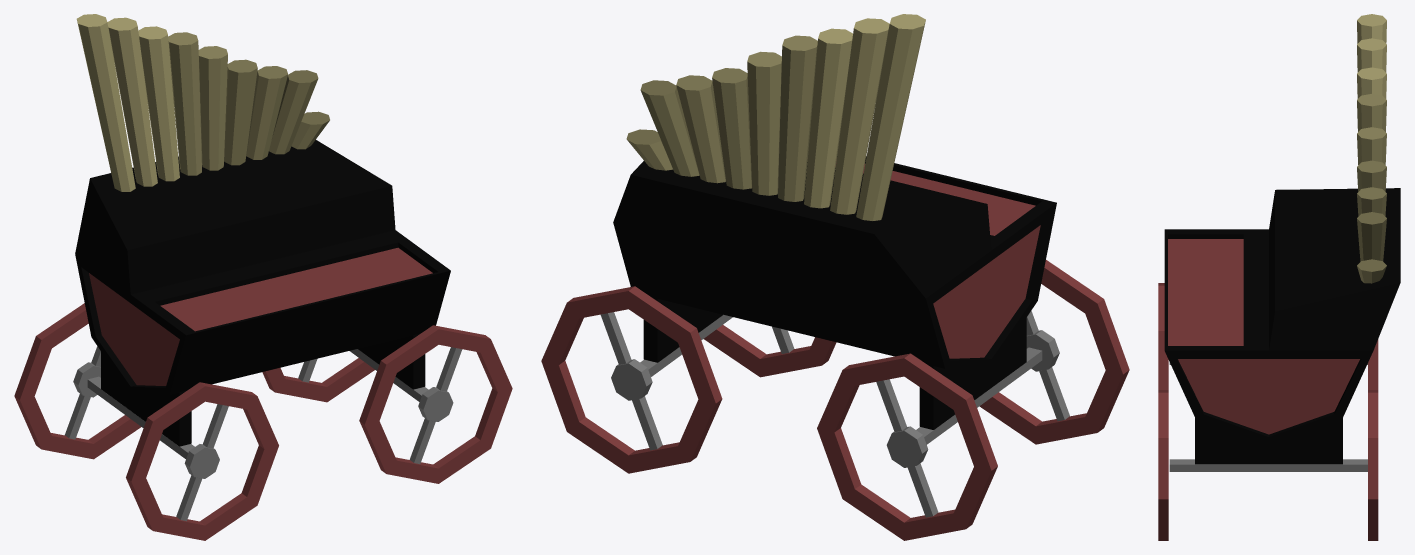
File: Props_Music_Carriage_04.fbx
3 views of the same model, side by side, from view 1: azimuth 30°, elevation 25°; view 2: azimuth 150°, elevation 25°; view 3: azimuth 270°, elevation 25° (orthographic). The views are drawn at different scales.
Visible parts, largest first — view 1: group20; view 2: group20; view 3: group20.
Boxes of the visible parts, bbox=[...] form: group20: bbox=[14, 14, 512, 540]; group20: bbox=[541, 14, 1129, 540]; group20: bbox=[1158, 14, 1400, 540].
Bounding box in the file's own units: 937 × 1026 × 548.
